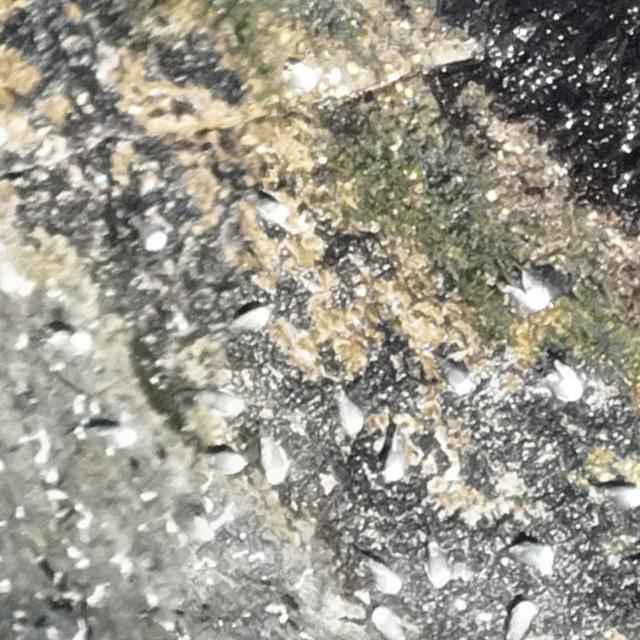umineko: (510, 268, 550, 312), (380, 432, 411, 484), (510, 538, 556, 573), (131, 212, 169, 252), (541, 365, 583, 401), (504, 598, 540, 638), (367, 554, 403, 593), (426, 540, 454, 590), (443, 358, 478, 396), (264, 434, 290, 485), (87, 423, 138, 448), (336, 388, 363, 433), (372, 606, 409, 638), (43, 329, 91, 352), (253, 194, 286, 227), (230, 307, 272, 332), (603, 481, 637, 506), (211, 454, 240, 472)
